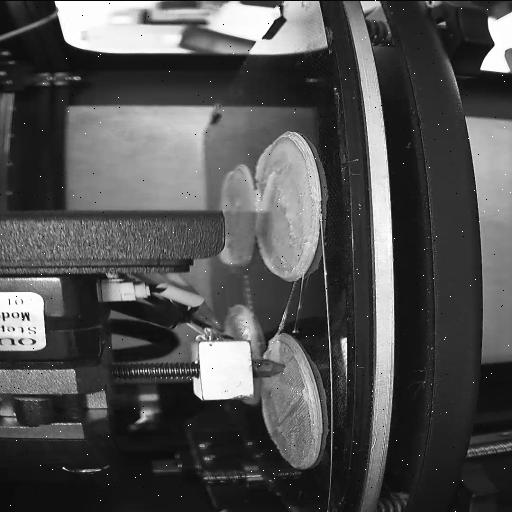over_extrusion: (254, 144, 282, 236), (256, 241, 297, 279), (222, 252, 250, 268)
